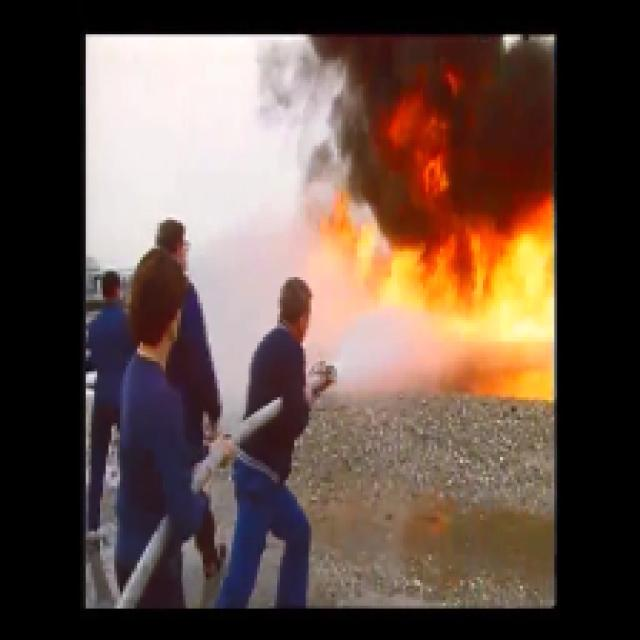fire: (383, 242, 555, 311)
smoke: (344, 46, 538, 211)
